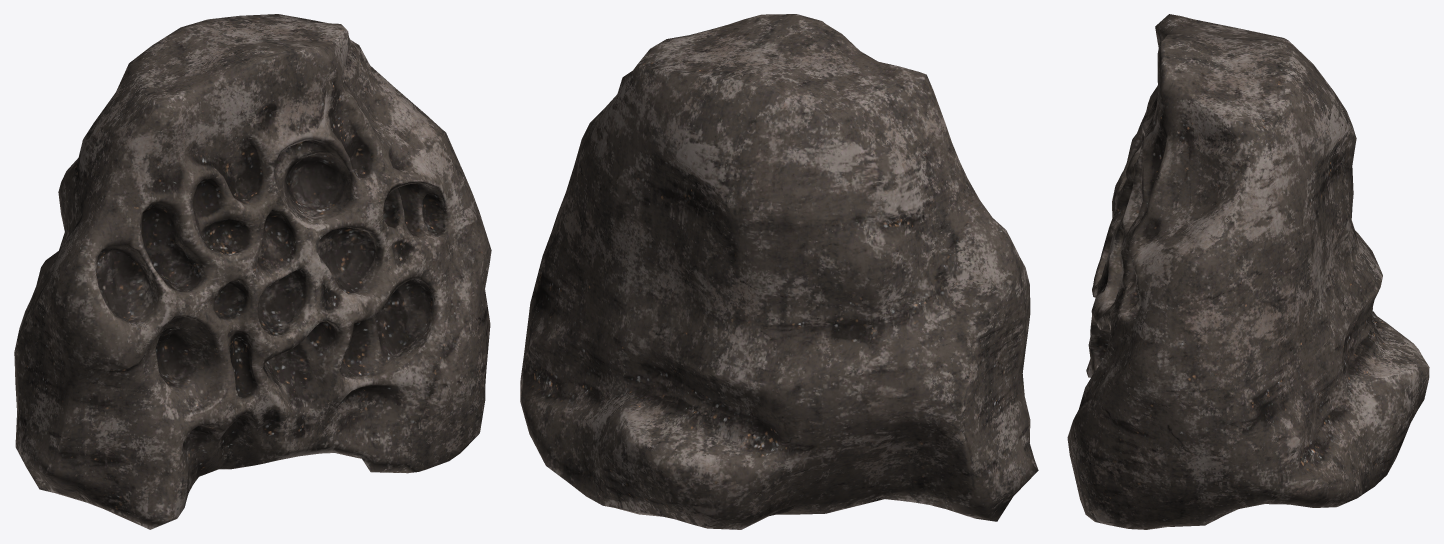
The model's file is cave_erosion_hole.DAE.
The picture shows the model from 3 angles, left to right: view 1: azimuth 30°, elevation 25°; view 2: azimuth 150°, elevation 25°; view 3: azimuth 270°, elevation 25°; orthographic projection. The views are drawn at different scales.
Visible parts, largest first — view 1: cave_erosion_holes; view 2: cave_erosion_holes; view 3: cave_erosion_holes.
Part boxes in pixels (bbox=[...]): cave_erosion_holes: bbox=[14, 14, 491, 529]; cave_erosion_holes: bbox=[520, 14, 1038, 529]; cave_erosion_holes: bbox=[1067, 14, 1429, 529].
Size of the model in its own units: 199 by 177 by 142.
